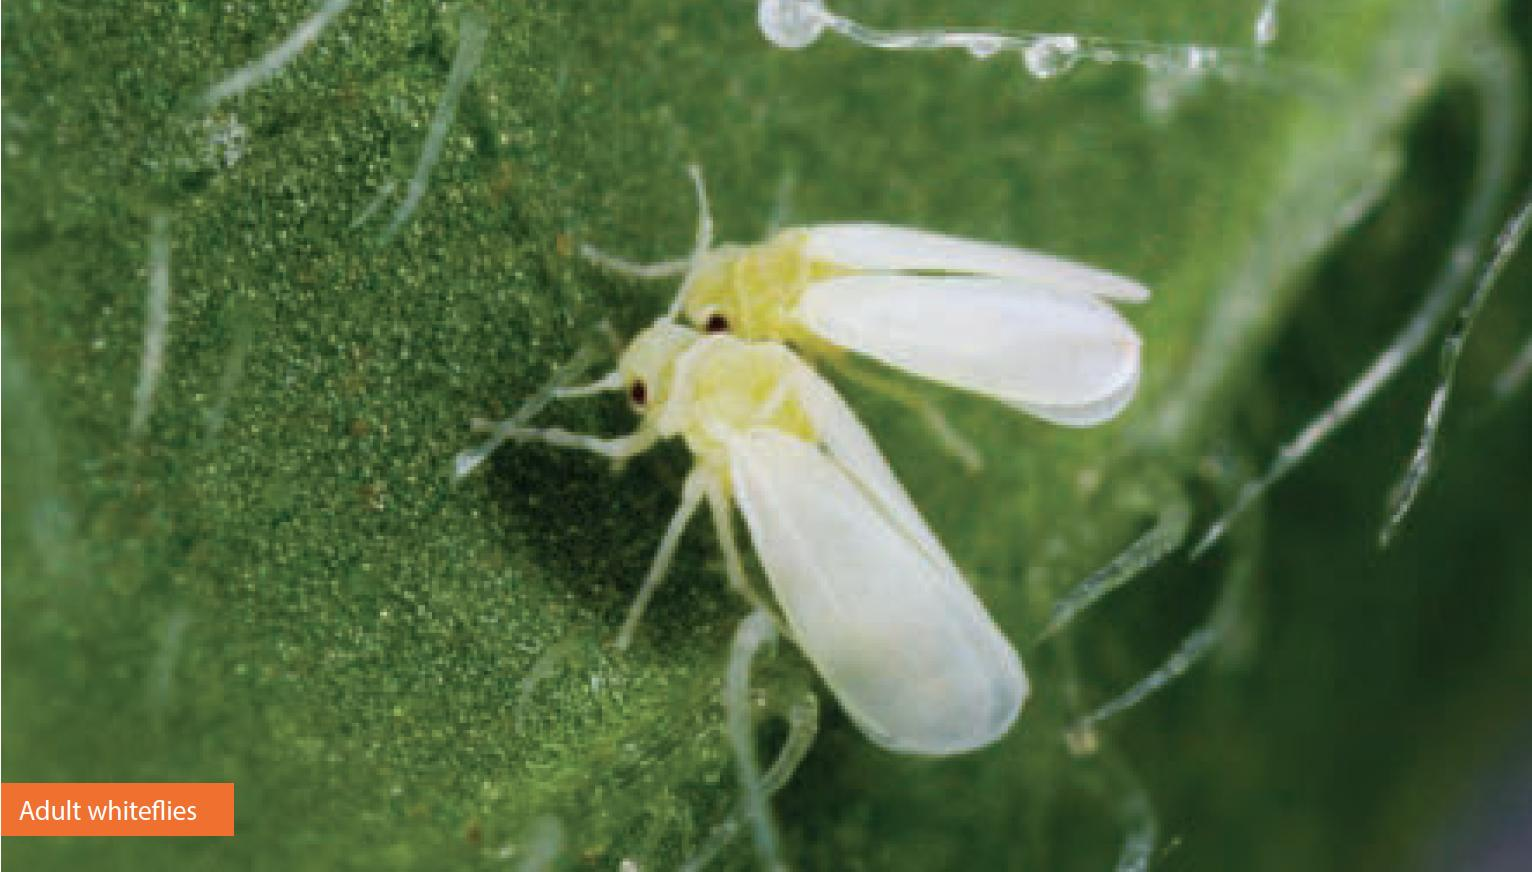Tobacco Whitefly: (493, 303, 1037, 750), (651, 167, 1144, 433)
